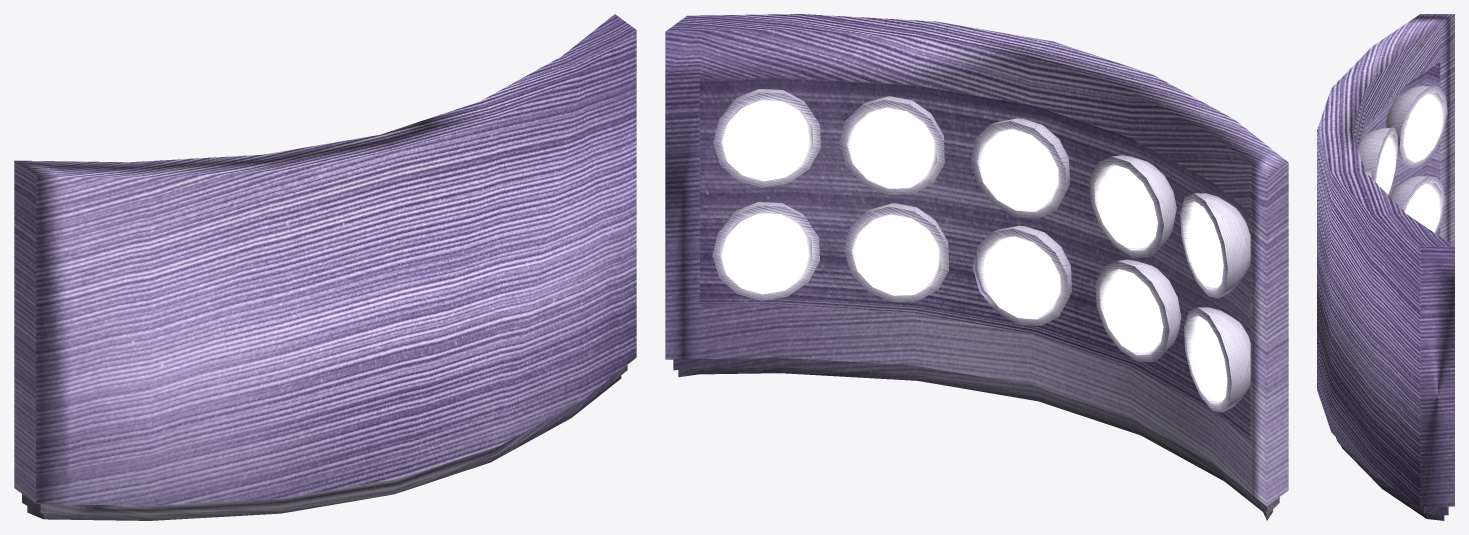
File: StadiumLight_001.fbx
3 views of the same model, side by side, from view 1: azimuth 30°, elevation 25°; view 2: azimuth 150°, elevation 25°; view 3: azimuth 270°, elevation 25° (orthographic). The views are drawn at different scales.
Visible parts, largest first — view 1: StadiumLight_001; view 2: StadiumLight_001; view 3: StadiumLight_001.
Boxes of the visible parts, bbox=[...] form: StadiumLight_001: bbox=[14, 14, 636, 520]; StadiumLight_001: bbox=[665, 14, 1288, 520]; StadiumLight_001: bbox=[1317, 14, 1454, 520].
Bounding box in the file's own units: 400 × 222 × 100.
